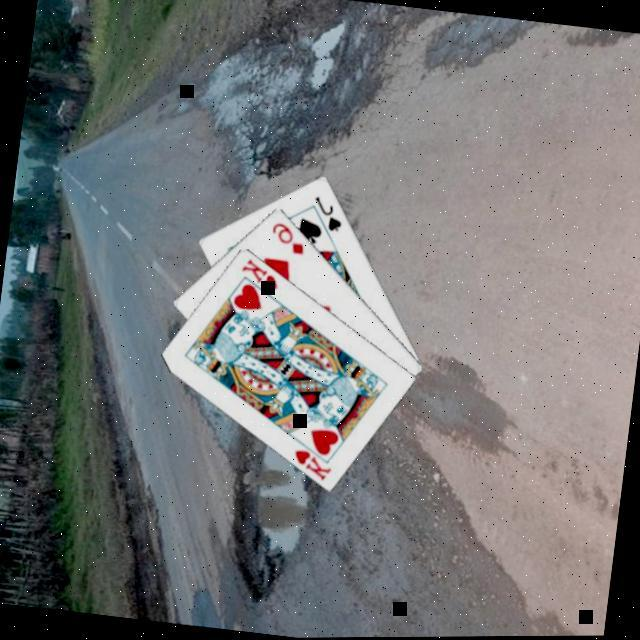6D: (265, 216, 309, 256)
JS: (306, 190, 346, 232)
KH: (286, 442, 336, 482), (235, 251, 283, 291)
